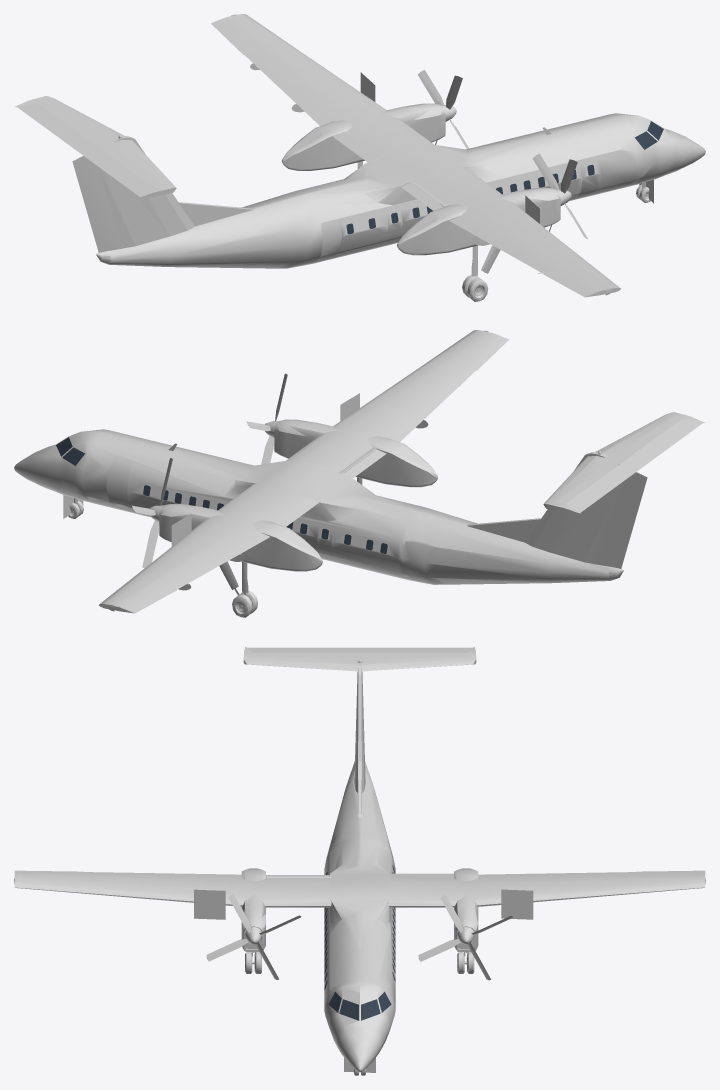
The picture shows the model from 3 angles, top to bottom: view 1: azimuth 30°, elevation 25°; view 2: azimuth 150°, elevation 25°; view 3: azimuth 270°, elevation 25°; orthographic projection. The views are drawn at different scales.
Visible parts, largest first — view 1: body, glass; view 2: body, glass; view 3: body, glass.
Part boxes in pixels (x1,y1,x2,y2): body: [14, 14, 705, 301]; glass: [346, 121, 663, 234]; body: [14, 330, 704, 617]; glass: [56, 437, 387, 553]; body: [14, 646, 705, 1075]; glass: [324, 865, 395, 1020].
Bounding box in the file's own units: 2.15 × 0.6261 × 2.2.
